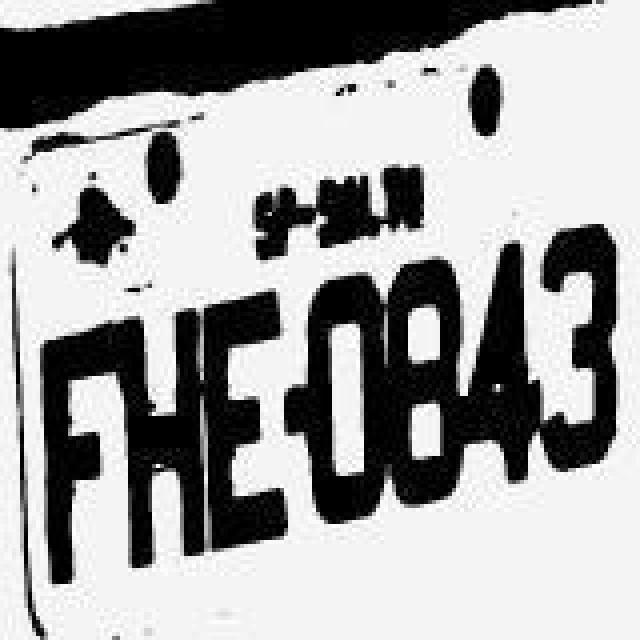3: (540, 214, 620, 474)
4: (466, 218, 542, 486)
8: (384, 252, 464, 508)
E: (200, 278, 296, 562)
F: (40, 304, 120, 592)
H: (118, 290, 210, 574)
O: (308, 258, 388, 534)
